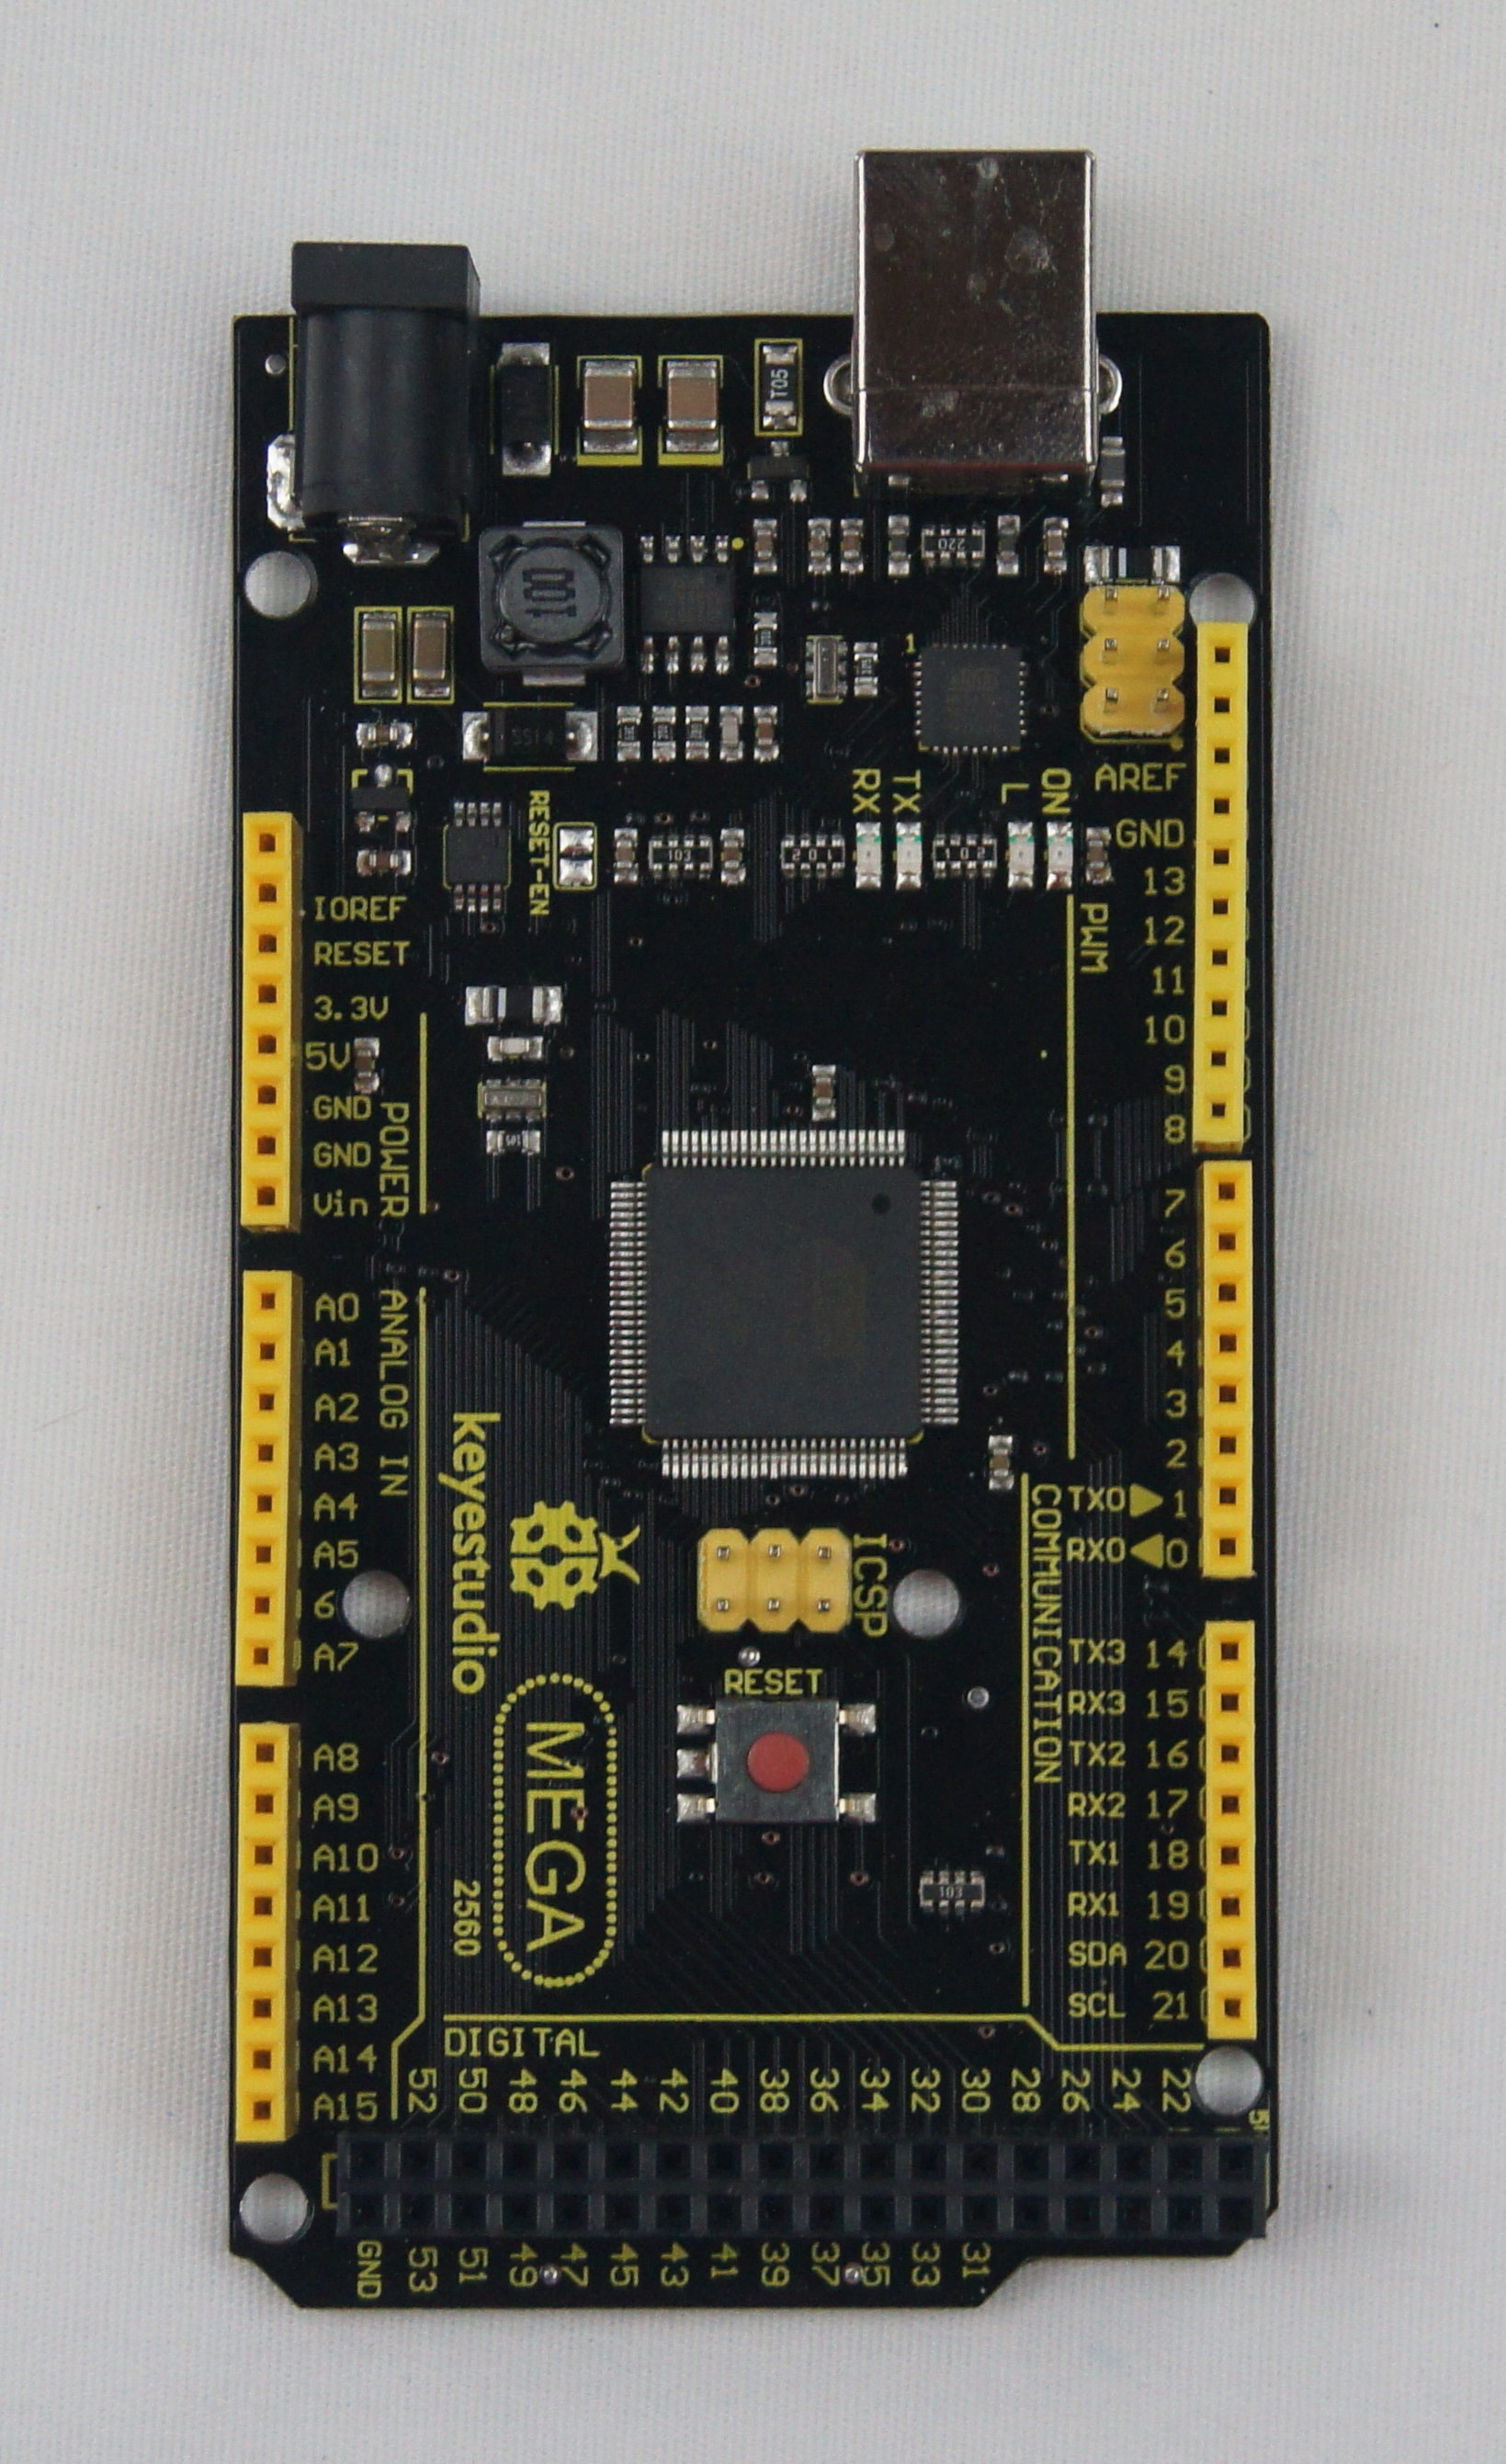connector: (336, 2121, 1267, 2246), (285, 232, 482, 551), (1193, 618, 1247, 1148), (238, 811, 301, 1234), (234, 1264, 296, 1688), (234, 1720, 296, 2142), (1195, 1153, 1254, 1579), (1202, 1616, 1260, 2043), (691, 1522, 855, 1635), (1082, 584, 1186, 734)
